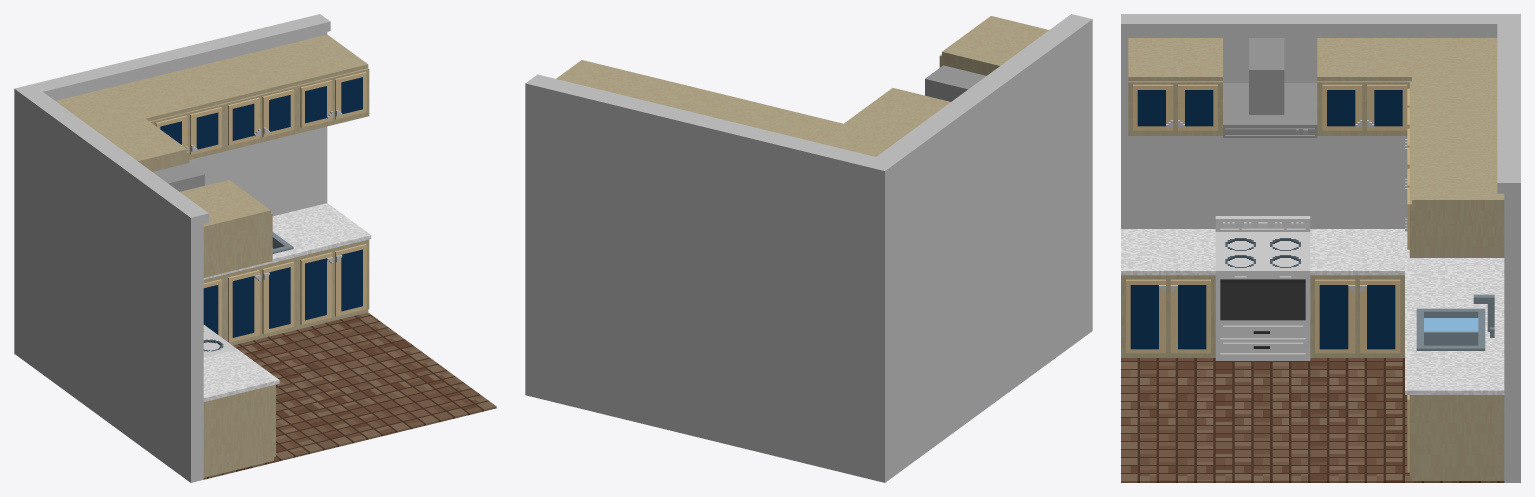
Rendered from kitchen.fbx.
The picture shows the model from 3 angles, left to right: view 1: azimuth 30°, elevation 25°; view 2: azimuth 150°, elevation 25°; view 3: azimuth 270°, elevation 25°; orthographic projection. The views are drawn at different scales.
Visible parts, largest first — view 1: kitchen; view 2: kitchen; view 3: kitchen.
Part boxes in pixels (x1,y1,x2,y2): kitchen: (14, 14, 496, 482); kitchen: (525, 14, 1092, 482); kitchen: (1121, 14, 1520, 482).
Size of the model in its own units: 16.9 by 16.9 by 14.
